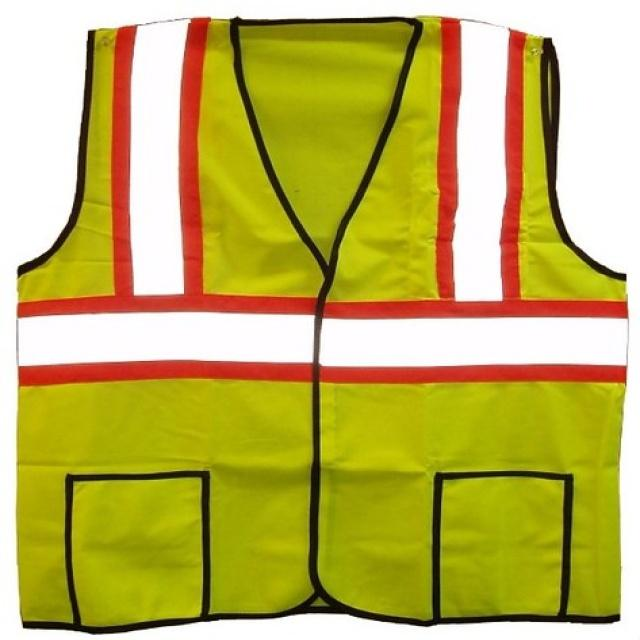vest: (16, 11, 630, 640)
